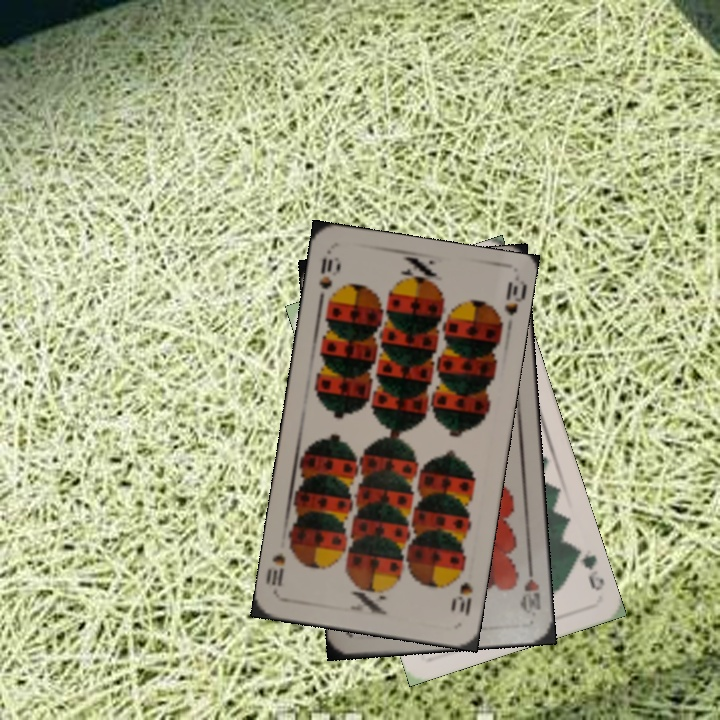G9: (568, 542, 607, 593)
H10: (517, 559, 544, 619)
S10: (447, 563, 476, 618), (314, 253, 342, 292)
